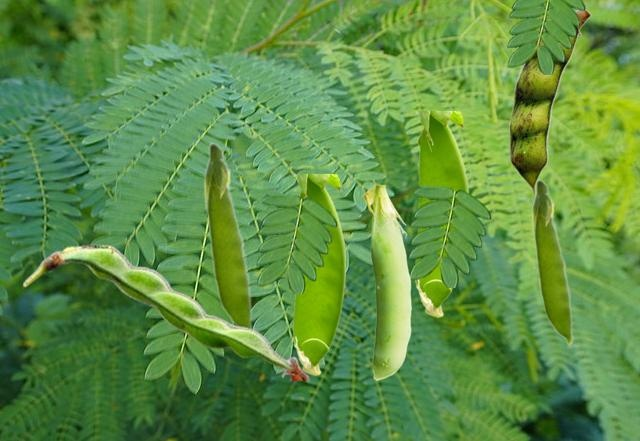pea: (23, 244, 309, 379), (509, 8, 590, 200), (415, 111, 467, 316), (293, 174, 344, 374), (362, 179, 410, 379), (203, 141, 253, 328), (531, 178, 573, 347)
